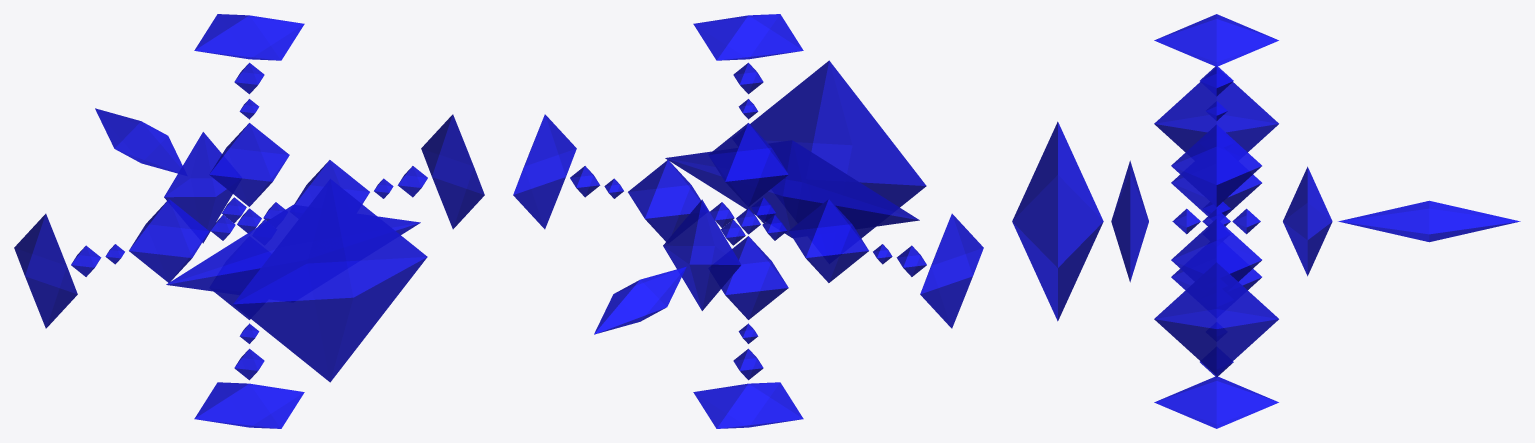
File: Screams Geometrically 2 NoUse.FBX
The picture shows the model from 3 angles, left to right: view 1: azimuth 30°, elevation 25°; view 2: azimuth 150°, elevation 25°; view 3: azimuth 270°, elevation 25°; orthographic projection.
Parts seen in each view (by area): view 1: Sphere001; view 2: Sphere001; view 3: Sphere001.
Part boxes in pixels (<box>): Sphere001: <box>14,14,484,428</box>; Sphere001: <box>513,14,983,428</box>; Sphere001: <box>1012,14,1520,428</box>.
Size of the model in its own units: 3046 by 2672 by 3041.
